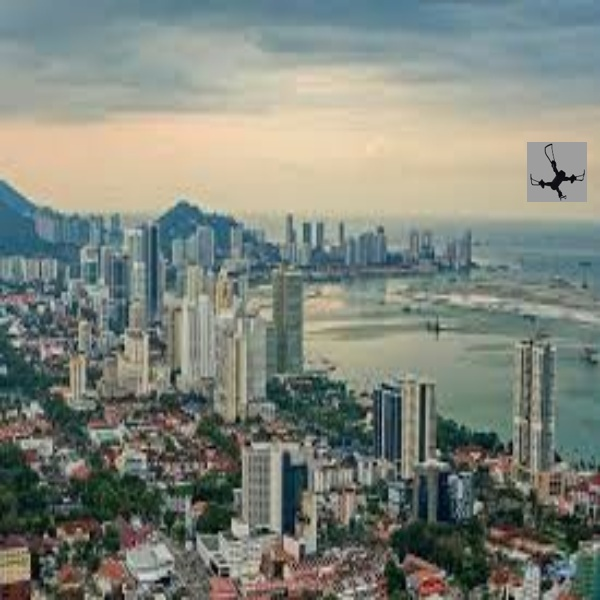drone: (530, 139, 586, 202)
